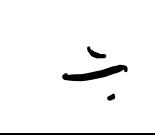div: (63, 48, 126, 100)
